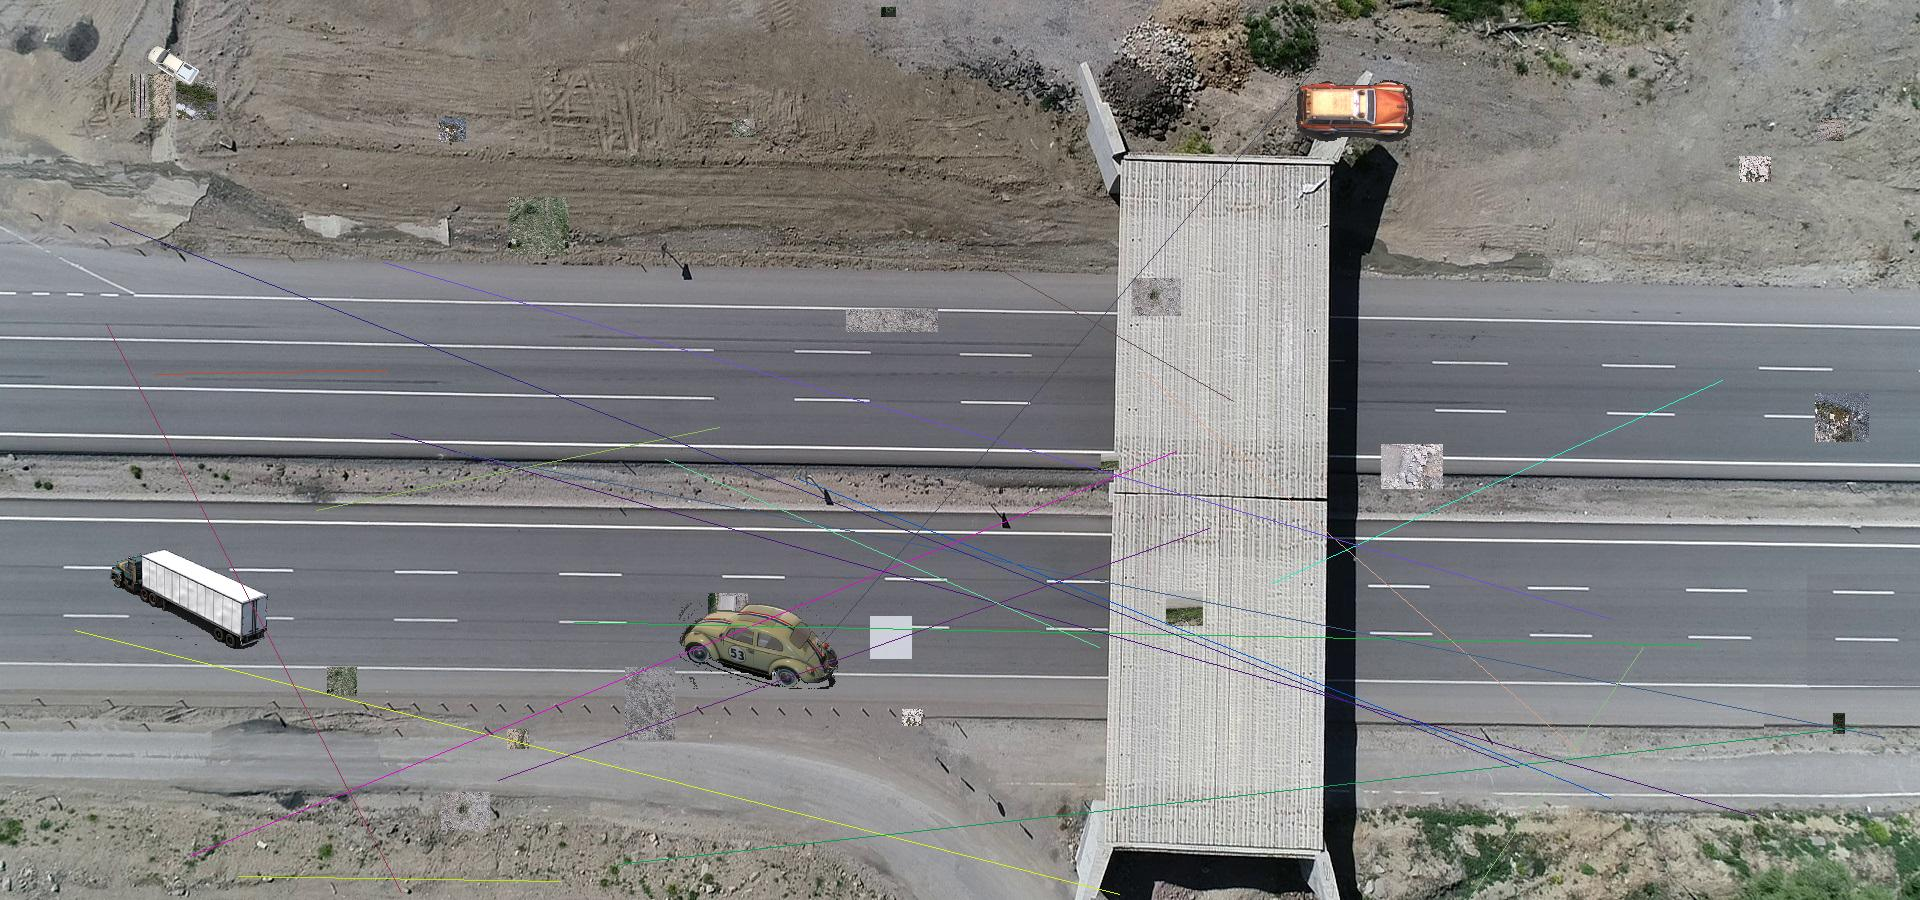arac: (103, 536, 269, 650), (680, 602, 838, 689), (1296, 80, 1420, 142), (146, 43, 202, 86)
